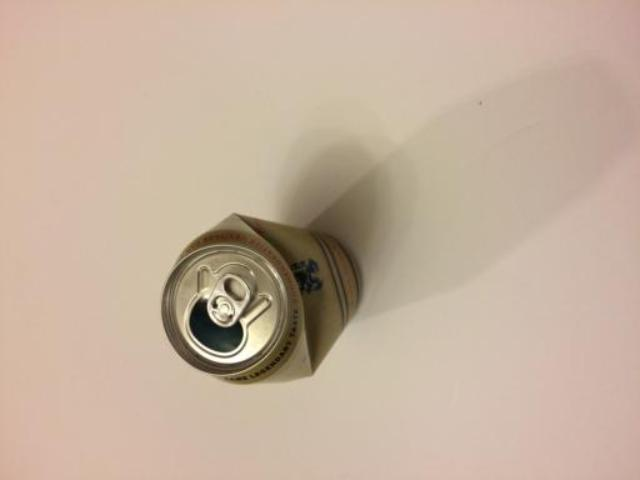metal: (160, 212, 358, 380)
